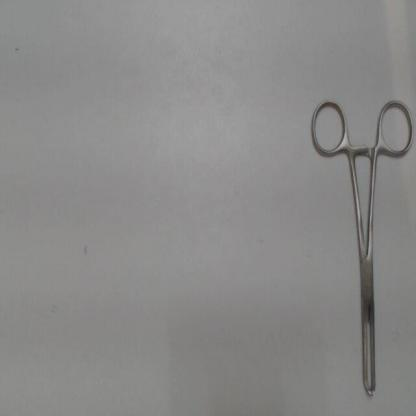Allis Tissue Forceps: (305, 95, 416, 404)
